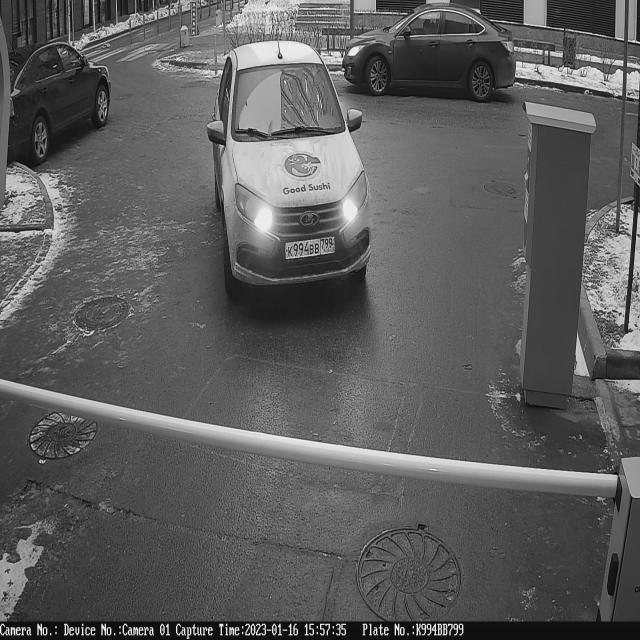car-plate-numbers: (284, 233, 339, 267)
